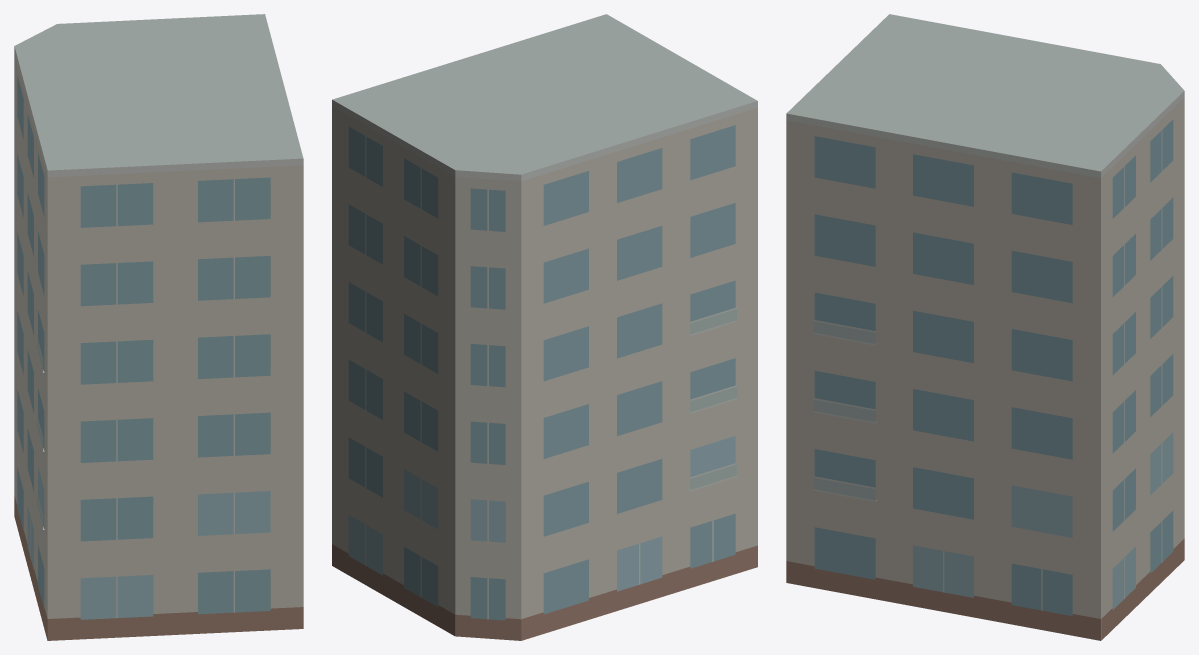
File: survey-upis-33002464.glb
The picture shows the model from 3 angles, left to right: view 1: azimuth 30°, elevation 25°; view 2: azimuth 150°, elevation 25°; view 3: azimuth 270°, elevation 25°; orthographic projection.
Visible parts, largest first — view 1: survey-upis-33002464.tmp; view 2: survey-upis-33002464.tmp; view 3: survey-upis-33002464.tmp.
Boxes of the visible parts, left/top/right/bottom form: survey-upis-33002464.tmp: left=14, top=14, right=303, bottom=640; survey-upis-33002464.tmp: left=332, top=14, right=757, bottom=640; survey-upis-33002464.tmp: left=786, top=14, right=1184, bottom=640.
Size of the model in its own units: 12.32 by 17.1 by 13.16.
